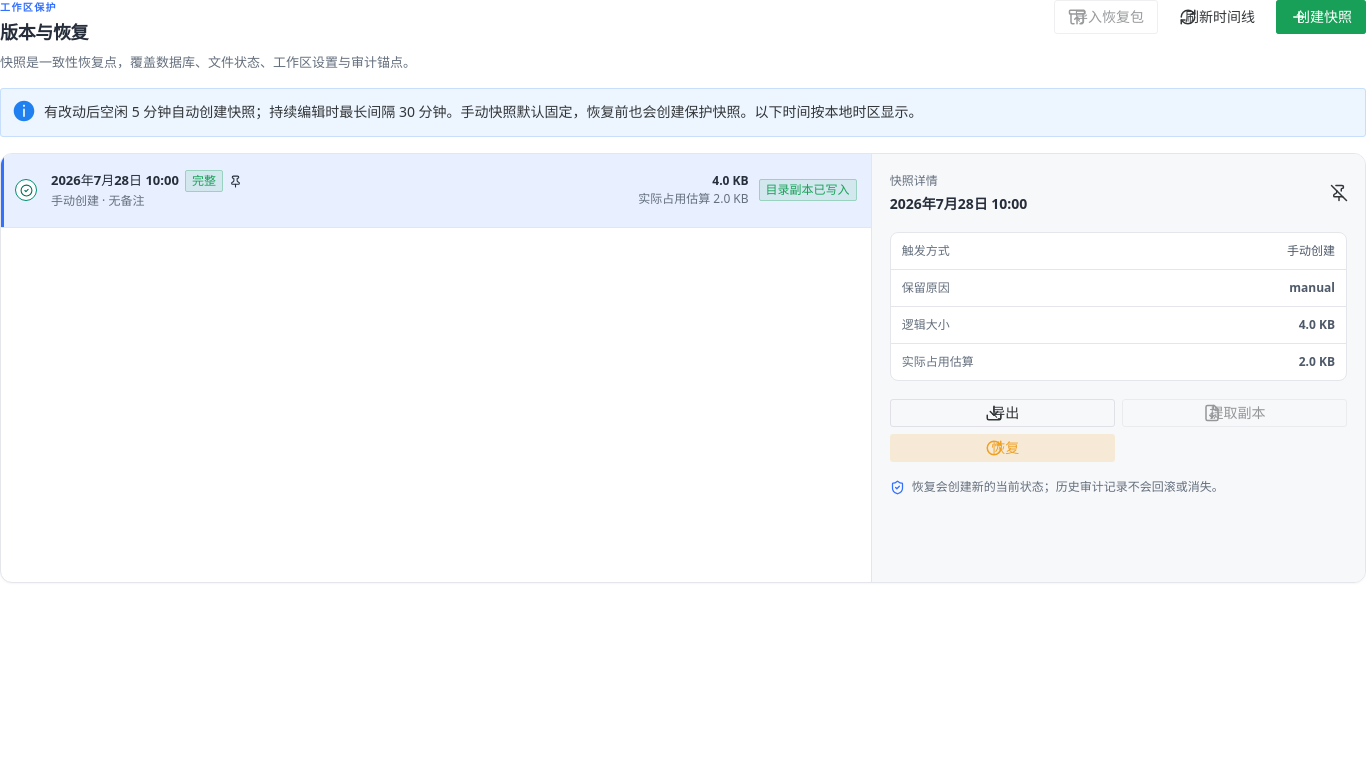
Scenario: workspace protection UI capability gates › keeps an open snapshot export modal when its operation lease becomes unavailable
Step 1. Click the button with test id "snapshot-export-open" → click(1002, 412), box [890,398,1115,426]
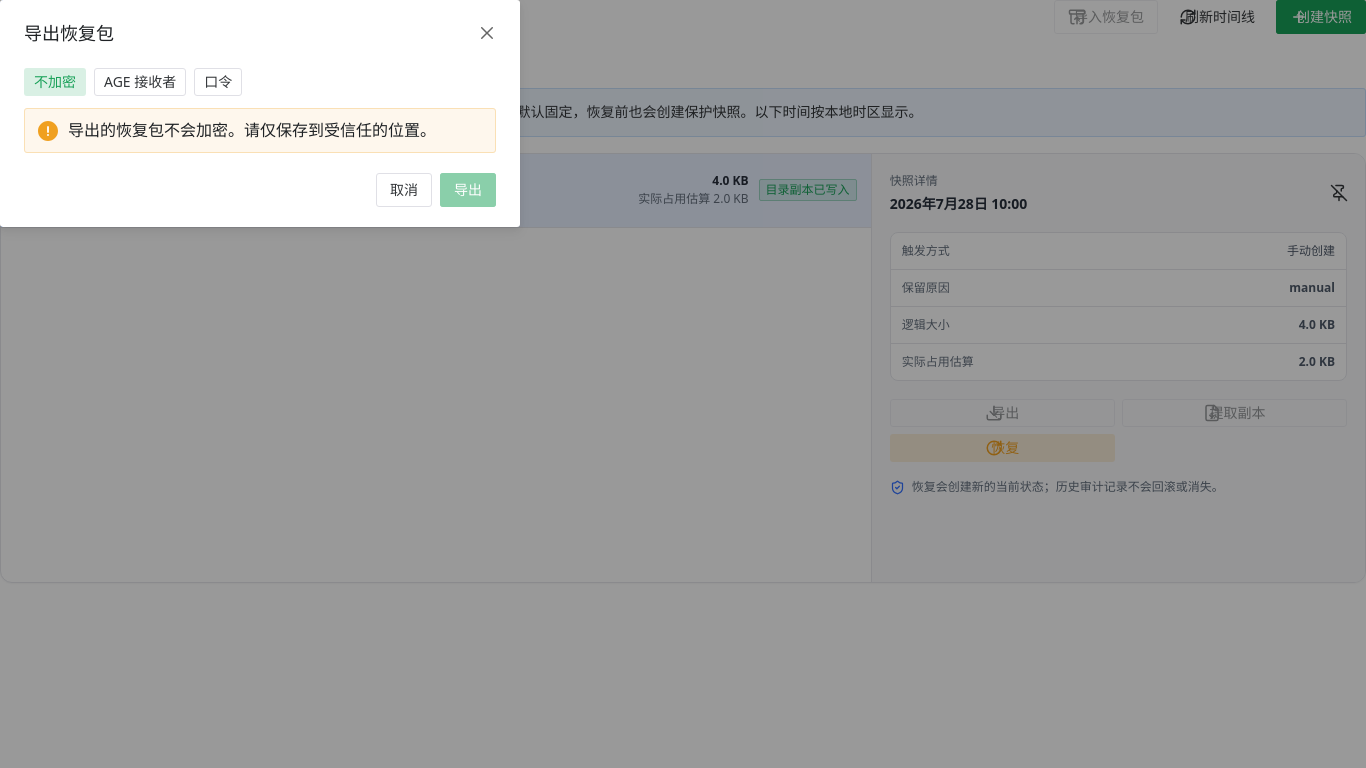
Expected: the button with test id "snapshot-export-apply" is disabled, [440,173,496,207]
